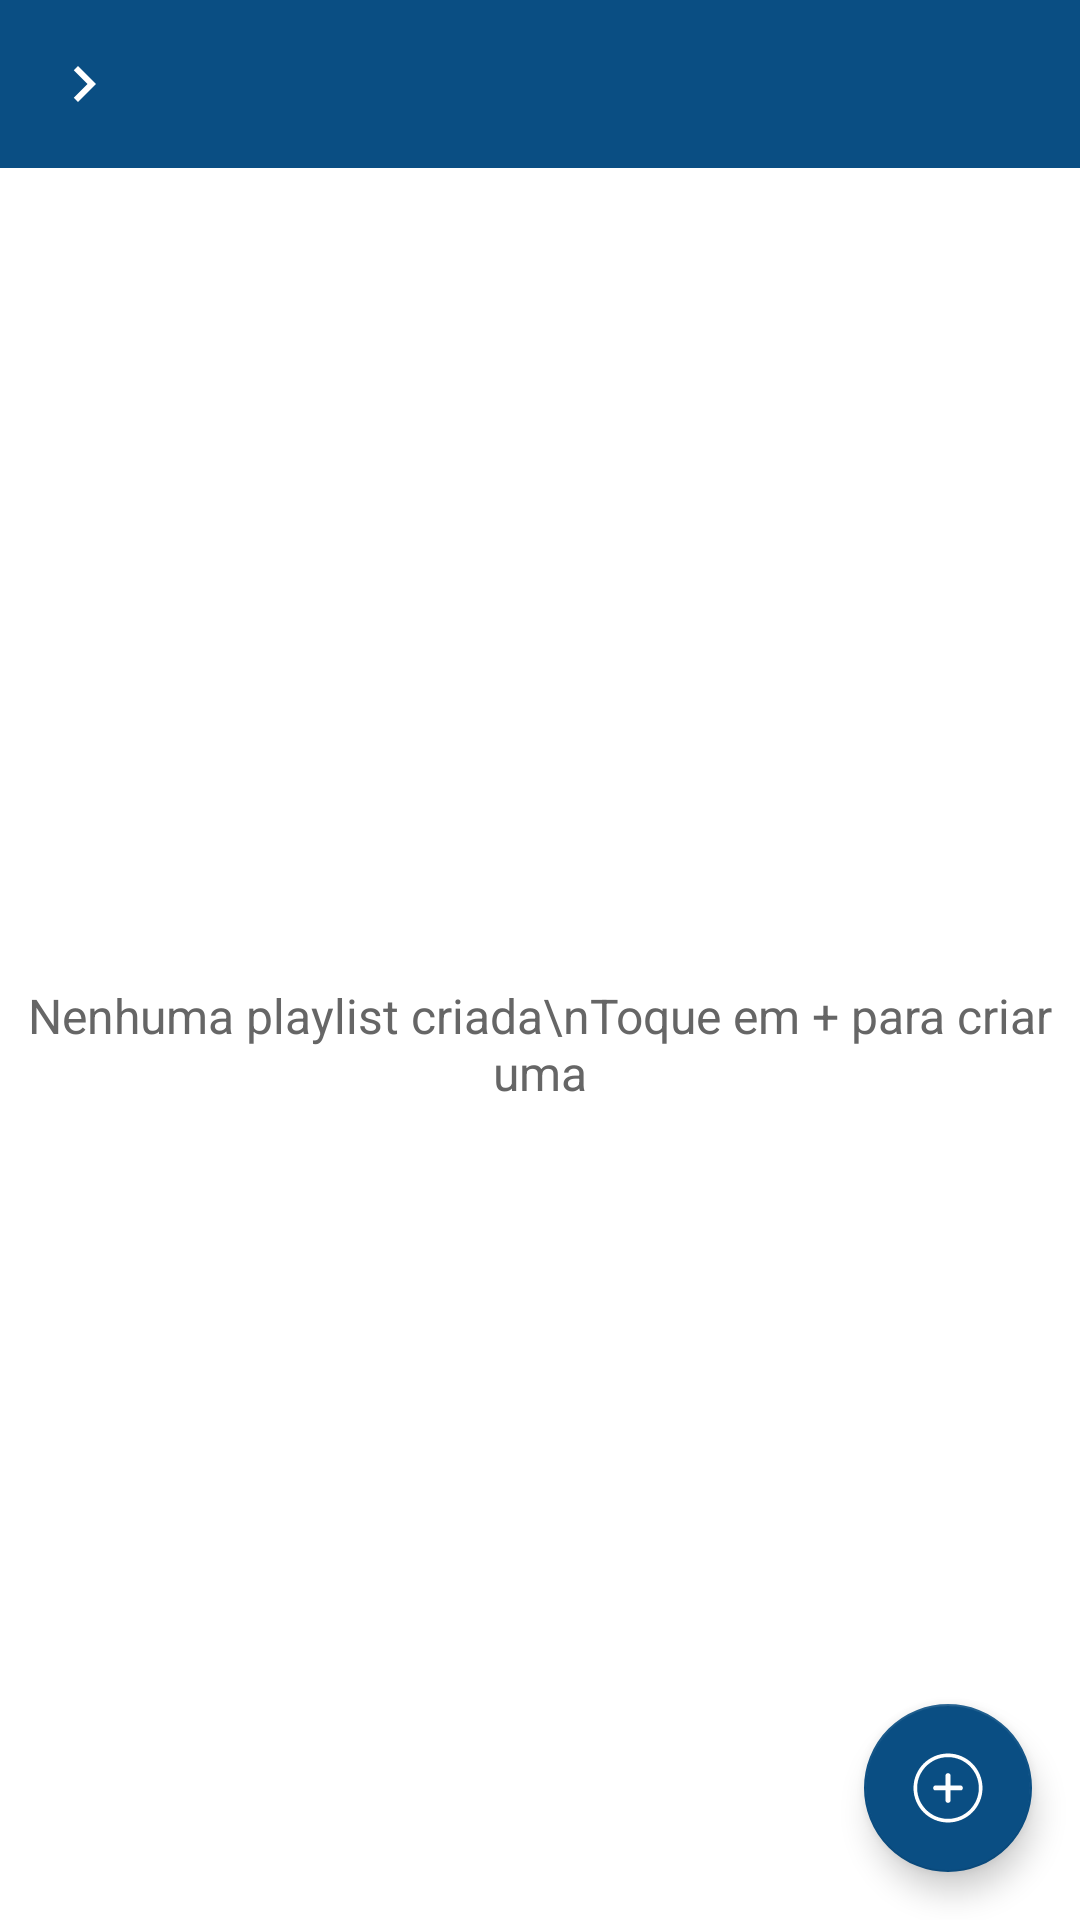

Point at icon controls on the screen. Image size 1080px×1920px, points as (x=x, y=y).
Criar nova playlist: (x=948, y=1788)
